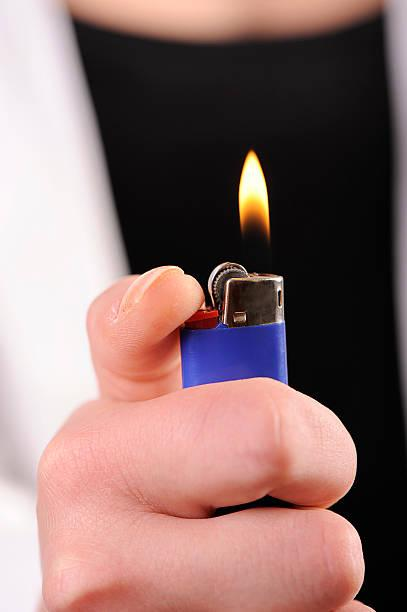Fire: (231, 148, 275, 238)
